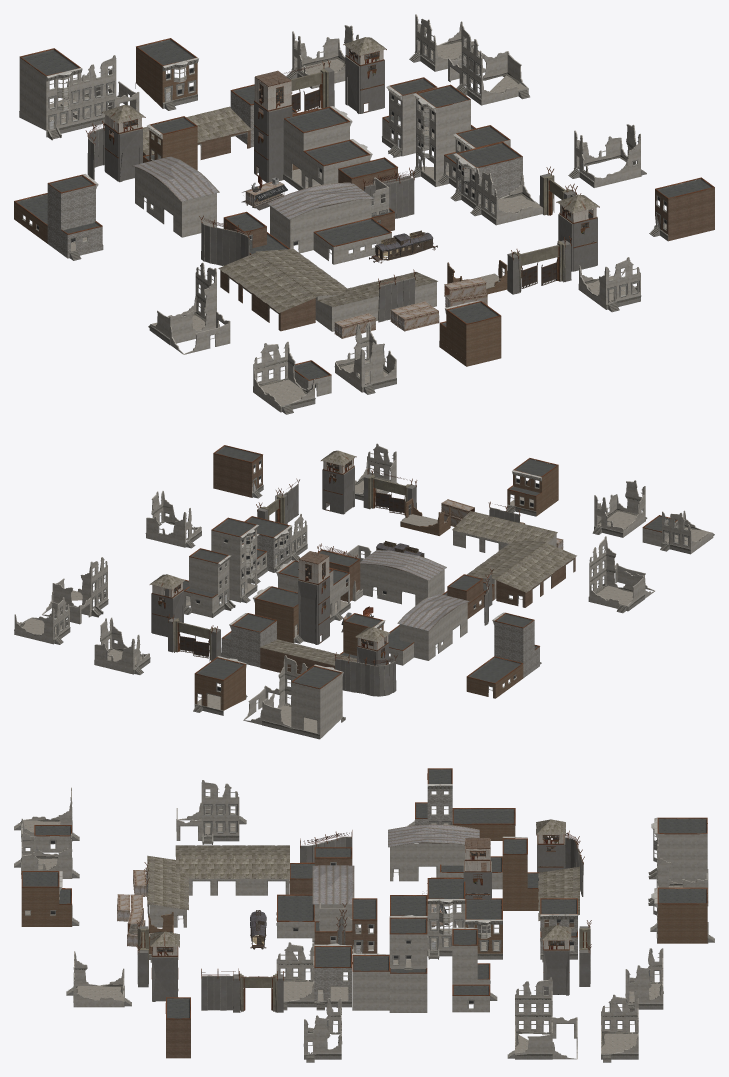
The model's file is compound-map.glb.
The picture shows the model from 3 angles, top to bottom: view 1: azimuth 30°, elevation 25°; view 2: azimuth 150°, elevation 25°; view 3: azimuth 270°, elevation 25°; orthographic projection. The views are drawn at different scales.
Visible parts, largest first — view 1: outbuilding_1st_6x9_LOD0 (×2), watch_tower_d_LOD0, outbuilding_1st_15x9_LOD0, compound_wall_corner_LOD0, rowhouse_2st_9x12_LOD0, outbuilding_2st_21x9_LOD0, rowhouse_2st_6x12_LOD0, compound_gate_LOD0, shipping_container_900_a_junkyard, Caboose_LOD0; view 2: outbuilding_1st_6x9_LOD0 (×2), watch_tower_d_LOD0, outbuilding_1st_15x9_LOD0, compound_wall_corner_LOD0, rowhouse_2st_9x12_LOD0, rowhouse_2st_6x12_LOD0, outbuilding_2st_21x9_LOD0, compound_gate_LOD0, shipping_container_900_a_junkyard; view 3: outbuilding_1st_6x9_LOD0 (×2), watch_tower_d_LOD0, outbuilding_1st_15x9_LOD0, compound_wall_corner_LOD0, rowhouse_2st_6x12_LOD0, outbuilding_2st_21x9_LOD0, rowhouse_2st_9x12_LOD0, shipping_container_900_a_junkyard, compound_gate_LOD0, Caboose_LOD0.
Part boxes in pixels (<box>): outbuilding_1st_6x9_LOD0 (×2): <box>14,14,714,414</box>; watch_tower_d_LOD0: <box>22,20,666,405</box>; outbuilding_1st_15x9_LOD0: <box>14,47,507,366</box>; compound_wall_corner_LOD0: <box>85,60,581,321</box>; rowhouse_2st_9x12_LOD0: <box>47,91,522,258</box>; outbuilding_2st_21x9_LOD0: <box>132,156,373,219</box>; rowhouse_2st_6x12_LOD0: <box>49,41,666,405</box>; compound_gate_LOD0: <box>291,68,571,292</box>; shipping_container_900_a_junkyard: <box>242,181,487,338</box>; Caboose_LOD0: <box>258,175,437,263</box>; outbuilding_1st_6x9_LOD0 (×2): <box>14,443,714,739</box>; watch_tower_d_LOD0: <box>20,450,705,729</box>; outbuilding_1st_15x9_LOD0: <box>194,465,558,710</box>; compound_wall_corner_LOD0: <box>167,468,520,696</box>; rowhouse_2st_9x12_LOD0: <box>221,530,539,677</box>; rowhouse_2st_6x12_LOD0: <box>22,478,711,733</box>; outbuilding_2st_21x9_LOD0: <box>360,550,469,631</box>; compound_gate_LOD0: <box>173,474,411,660</box>; shipping_container_900_a_junkyard: <box>343,499,563,627</box>; outbuilding_1st_6x9_LOD0 (×2): <box>14,768,714,1062</box>; watch_tower_d_LOD0: <box>21,788,690,1053</box>; outbuilding_1st_15x9_LOD0: <box>21,824,707,953</box>; compound_wall_corner_LOD0: <box>136,830,591,1012</box>; rowhouse_2st_6x12_LOD0: <box>23,820,683,1053</box>; outbuilding_2st_21x9_LOD0: <box>312,824,479,904</box>; rowhouse_2st_9x12_LOD0: <box>314,789,577,1001</box>; shipping_container_900_a_junkyard: <box>117,870,446,946</box>; compound_gate_LOD0: <box>137,928,590,1012</box>; Caboose_LOD0: <box>250,910,266,949</box>.
Size of the model in its own units: 138 by 25.39 by 168.
Materials: 38 (38 with a texture image).
